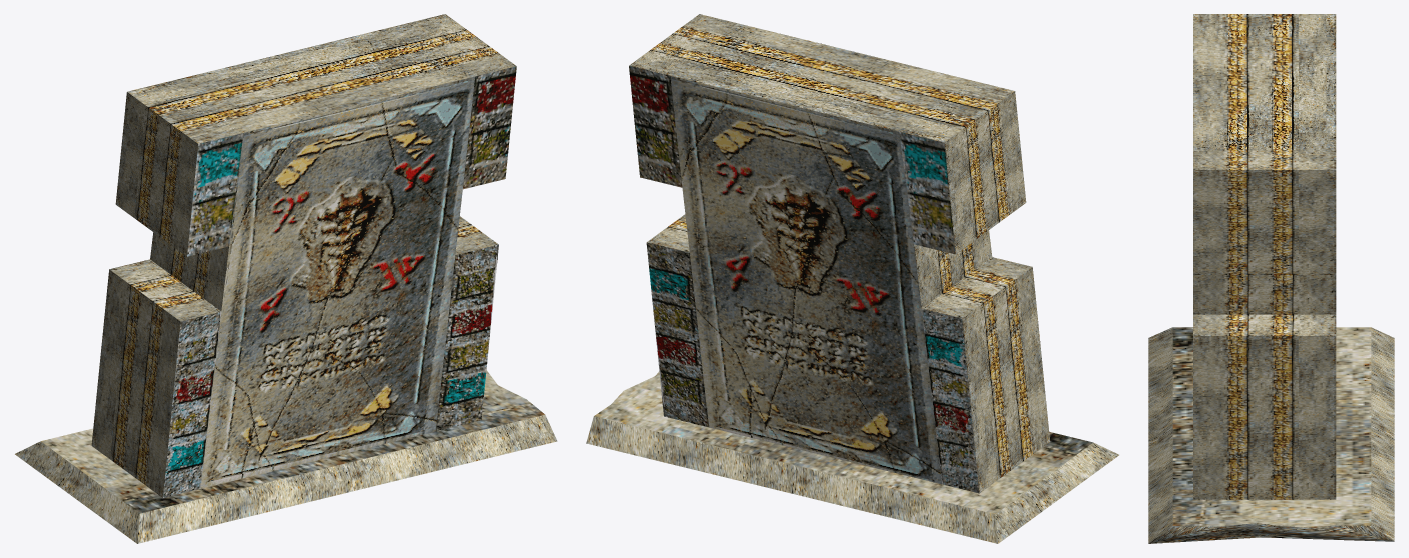
File: Totem_Large_Left_Broken.fbx
3 views of the same model, side by side, from view 1: azimuth 30°, elevation 25°; view 2: azimuth 150°, elevation 25°; view 3: azimuth 270°, elevation 25° (orthographic).
Parts seen in each view (by area): view 1: object_3_cell.009, object_3_cell.004, object_3_cell.008, object_3.001_cell.002, object_3_cell.010, object_3_cell.006, object_3_cell.003, object_3_cell, object_3_cell.011, object_3_cell.005, object_3.001_cell, object_3_cell.001; view 2: object_3_cell.004, object_3_cell.002, object_3.001_cell.002, object_3_cell.010, object_3_cell, object_3_cell.006, object_3_cell.007, object_3.001_cell.001, object_3_cell.011, object_3_cell.005, object_3_cell.008, object_3_cell.003 (+1 smaller); view 3: object_3_cell, object_3_cell.002, object_3.001_cell.002, object_3_cell.009, object_3_cell.010, object_3.001_cell.001, object_3_cell.003, object_3.001_cell, object_3_cell.007, object_3_cell.005, object_3_cell.001.
Boxes of the visible parts, x1,y1,x2,y2 form: object_3_cell.009: (294, 158, 498, 465); object_3_cell.004: (91, 244, 318, 497); object_3_cell.008: (235, 125, 447, 316); object_3.001_cell.002: (15, 423, 473, 543); object_3_cell.010: (154, 45, 364, 194); object_3_cell.006: (115, 146, 255, 309); object_3_cell.003: (356, 57, 516, 145); object_3_cell: (318, 14, 516, 184); object_3_cell.011: (106, 262, 219, 364); object_3_cell.005: (121, 100, 212, 210); object_3.001_cell: (469, 395, 557, 461); object_3_cell.001: (124, 85, 160, 121); object_3_cell.004: (816, 205, 1050, 493); object_3_cell.002: (647, 151, 825, 389); object_3.001_cell.002: (710, 428, 1118, 543); object_3_cell.010: (755, 52, 1012, 175); object_3_cell: (629, 15, 769, 246); object_3_cell.006: (846, 158, 1026, 293); object_3_cell.007: (661, 377, 916, 477); object_3.001_cell.001: (586, 371, 712, 474); object_3_cell.011: (935, 257, 1036, 347); object_3_cell.005: (917, 90, 1021, 195); object_3_cell.008: (768, 130, 854, 227); object_3_cell.003: (698, 14, 855, 76); object_3_cell: (1193, 107, 1336, 340); object_3_cell.002: (1240, 275, 1336, 499); object_3.001_cell.002: (1148, 327, 1394, 501); object_3_cell.009: (1193, 275, 1283, 499); object_3_cell.010: (1193, 14, 1336, 115); object_3.001_cell.001: (1224, 468, 1394, 541); object_3_cell.003: (1193, 92, 1291, 173); object_3.001_cell: (1148, 491, 1233, 543); object_3_cell.007: (1297, 474, 1336, 499); object_3_cell.005: (1193, 14, 1300, 21); object_3_cell.001: (1294, 14, 1336, 26).
Bounding box in the file's own units: 514 × 422 × 258.
